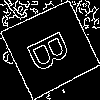B: (25, 24, 81, 74)
